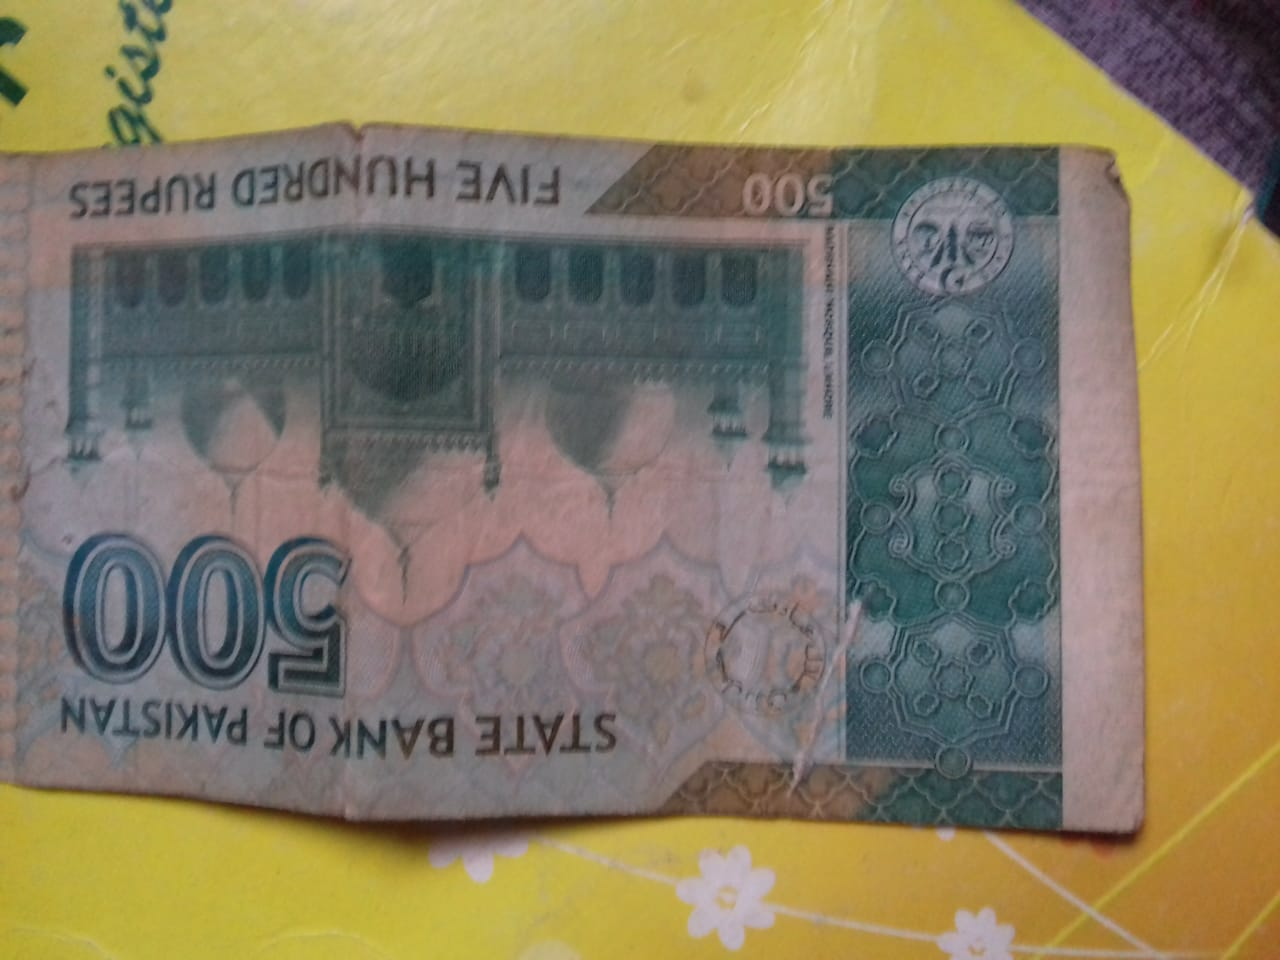500 rupee: (25, 133, 1134, 842)
